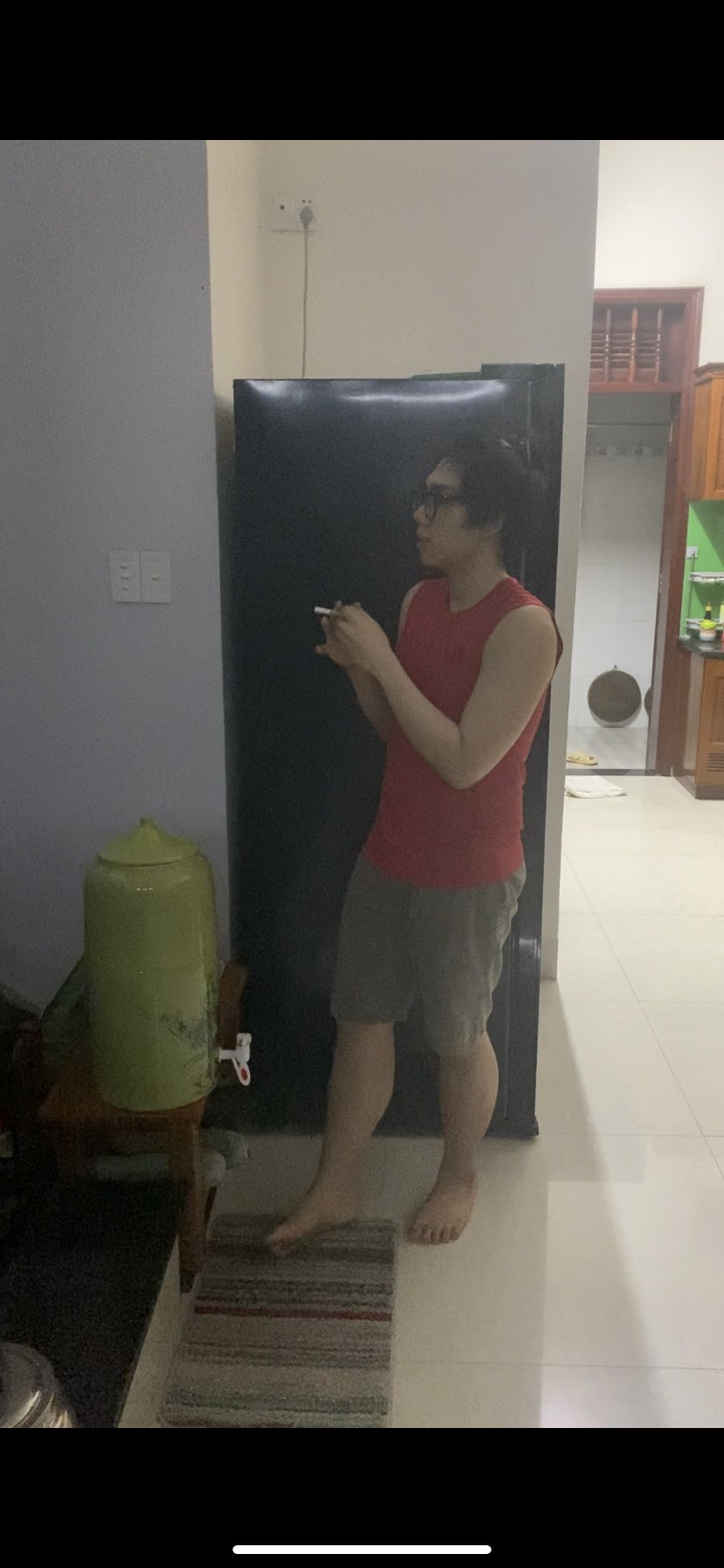cigarette: (309, 602, 332, 618)
person: (276, 424, 564, 1301)
